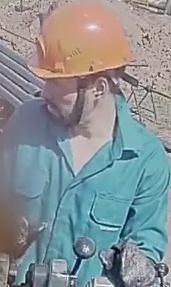gloves: (98, 238, 158, 287)
helmet: (25, 0, 136, 87)
vest: (2, 89, 170, 286)
